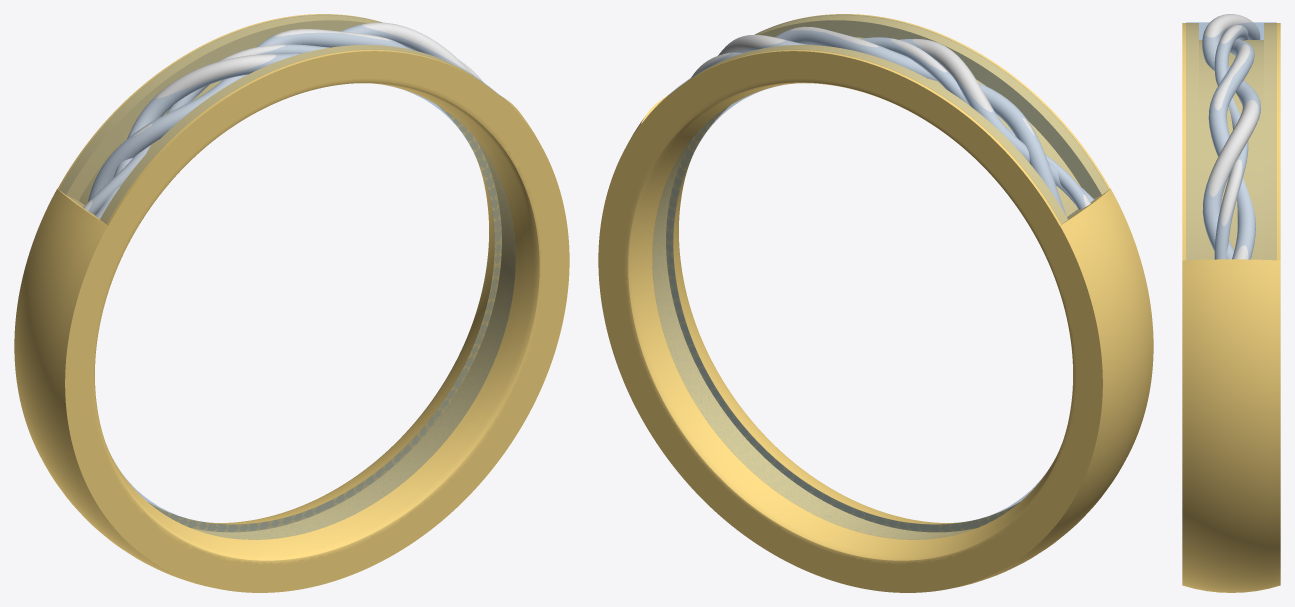
File: RobertV2newwb.glb
3 views of the same model, side by side, from view 1: azimuth 30°, elevation 25°; view 2: azimuth 150°, elevation 25°; view 3: azimuth 270°, elevation 25° (orthographic). The views are drawn at different scales.
Parts seen in each view (by area): view 1: v2 Robert YG for 3d model, Robert top blue color it for 3d model, Robert inside blue color it for 3d model, Robert PT for 3d model; view 2: v2 Robert YG for 3d model, Robert top blue color it for 3d model, Robert inside blue color it for 3d model, Robert PT for 3d model; view 3: v2 Robert YG for 3d model, Robert top blue color it for 3d model, Robert PT for 3d model.
Part boxes in pixels (x1,y1,x2,y2): v2 Robert YG for 3d model: (14, 14, 569, 592); Robert top blue color it for 3d model: (59, 15, 509, 223); Robert inside blue color it for 3d model: (123, 91, 515, 539); Robert PT for 3d model: (83, 22, 483, 218); v2 Robert YG for 3d model: (598, 14, 1153, 592); Robert top blue color it for 3d model: (658, 15, 1108, 223); Robert inside blue color it for 3d model: (652, 91, 1044, 539); Robert PT for 3d model: (691, 26, 1093, 215); v2 Robert YG for 3d model: (1182, 23, 1280, 592); Robert top blue color it for 3d model: (1186, 22, 1276, 259); Robert PT for 3d model: (1202, 14, 1260, 259).
Size of the model in its own units: 25.34 by 25.1 by 4.3.
